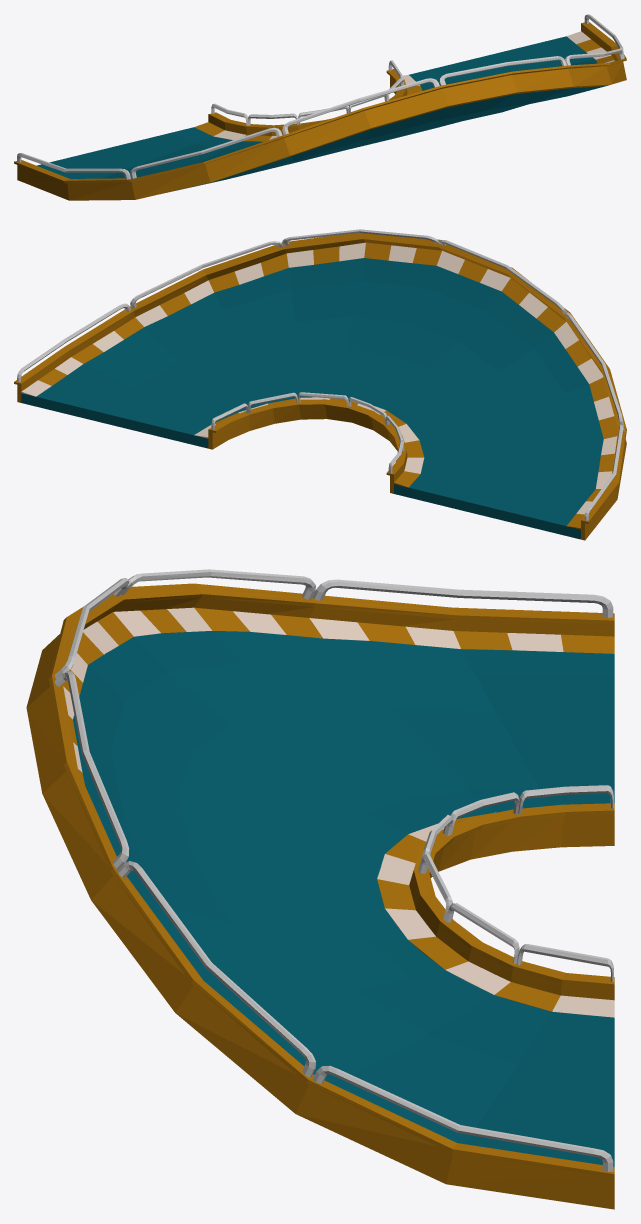
The model's file is curveRight-180-Banked-30.FBX.
3 renders of one model, top to bottom at view 1: azimuth 30°, elevation 25°; view 2: azimuth 150°, elevation 25°; view 3: azimuth 270°, elevation 25°, orthographic. The views are drawn at different scales.
Parts seen in each view (by area): view 1: wall_l, curveRight-180-banked-30, wall_r, curbs_r, curbs_l; view 2: curveRight-180-banked-30, wall_l, curbs_l, wall_r, curbs_r; view 3: curveRight-180-banked-30, wall_l, wall_r, curbs_l, curbs_r.
Boxes of the visible parts, left/top/right/bottom form: wall_l: left=14, top=14, right=626, bottom=200; curveRight-180-banked-30: left=37, top=36, right=605, bottom=192; wall_r: left=208, top=60, right=407, bottom=135; curbs_r: left=194, top=75, right=422, bottom=141; curbs_l: left=566, top=31, right=614, bottom=63; curveRight-180-banked-30: left=21, top=258, right=603, bottom=539; wall_l: left=14, top=229, right=626, bottom=540; curbs_l: left=21, top=242, right=618, bottom=529; wall_r: left=208, top=392, right=407, bottom=493; curbs_r: left=194, top=397, right=424, bottom=487; curveRight-180-banked-30: left=73, top=631, right=614, bottom=1166; wall_l: left=26, top=569, right=614, bottom=1209; wall_r: left=409, top=785, right=614, bottom=1000; curbs_l: left=63, top=607, right=614, bottom=784; curbs_r: left=377, top=812, right=614, bottom=1017.
Size of what is drawn, in the model's own units: 589 by 131 by 261.
